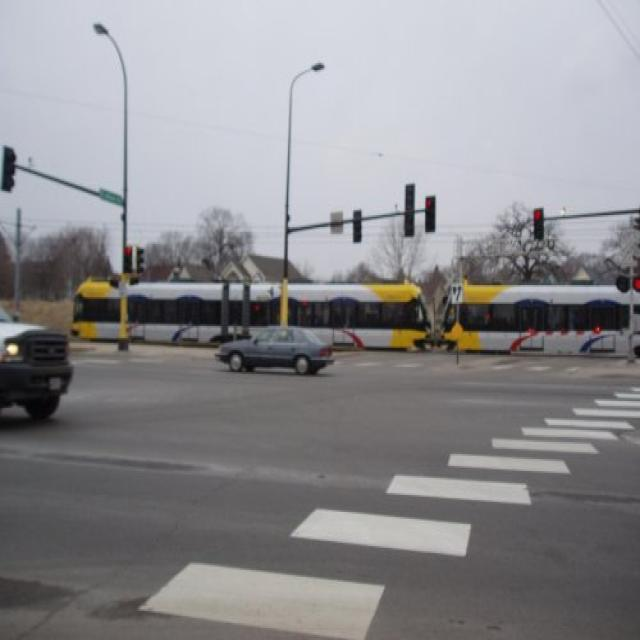Vehicle: (0, 306, 74, 422), (220, 327, 331, 373)
